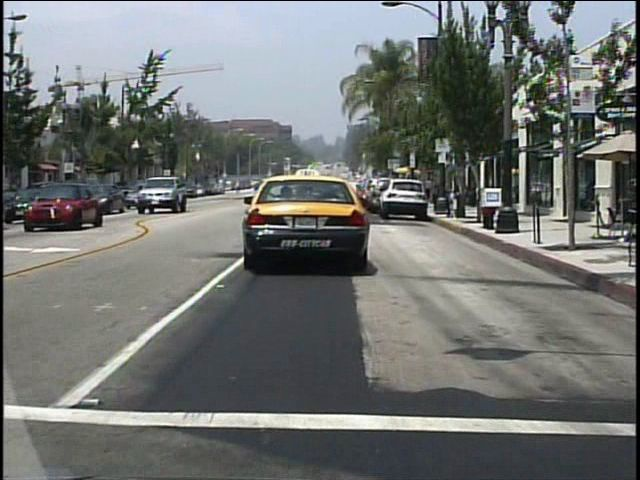person: (424, 176, 431, 199)
